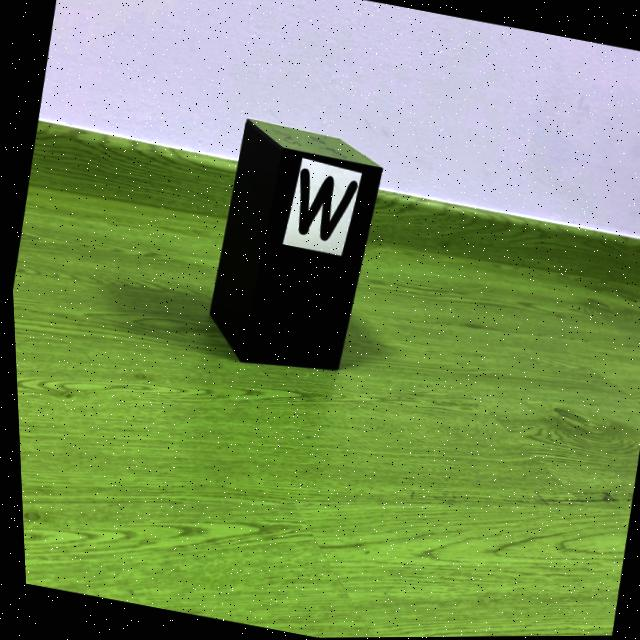W: (296, 169, 356, 241)
